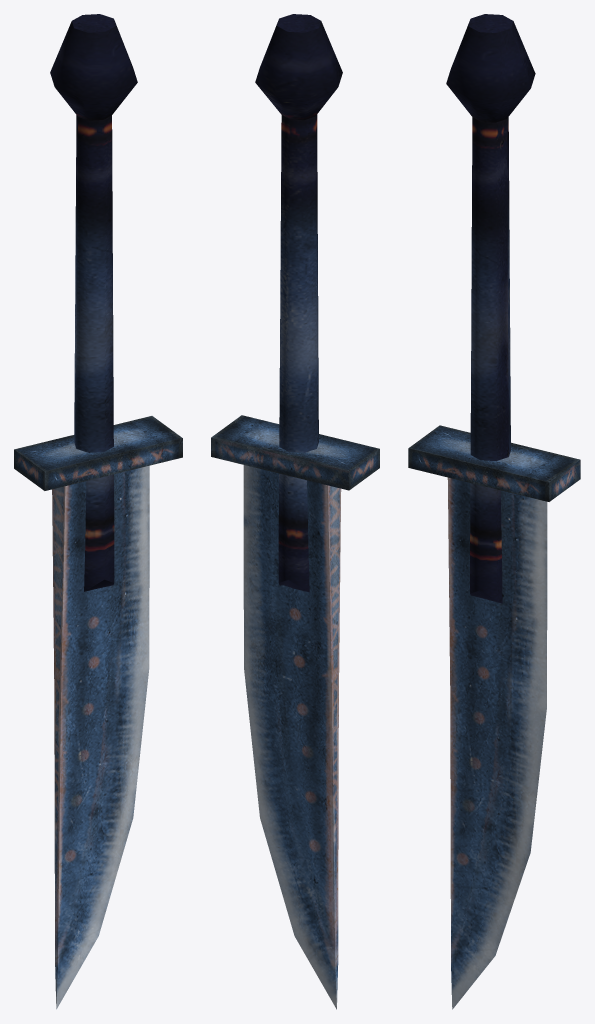
File: 1H_Sword_C.FBX
3 views of the same model, side by side, from view 1: azimuth 30°, elevation 25°; view 2: azimuth 150°, elevation 25°; view 3: azimuth 330°, elevation 25° (orthographic).
Parts seen in each view (by area): view 1: 1H_Sword_C; view 2: 1H_Sword_C; view 3: 1H_Sword_C.
Part boxes in pixels (bbox=[...]): 1H_Sword_C: bbox=[14, 14, 182, 1009]; 1H_Sword_C: bbox=[211, 14, 379, 1009]; 1H_Sword_C: bbox=[408, 14, 580, 1009].
Size of the model in its own units: 16.97 by 115 by 9.15.
